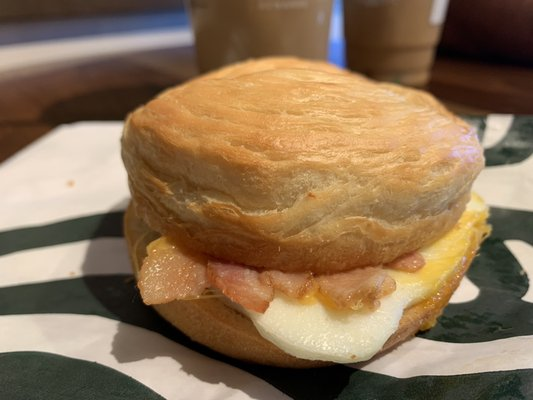pizza: (339, 0, 451, 88)
soup: (118, 55, 488, 368)
